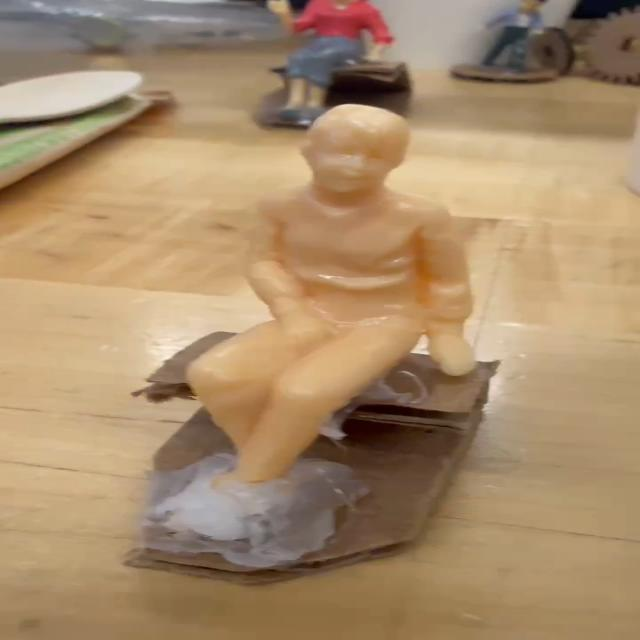Unauthorized: (187, 108, 486, 504)
